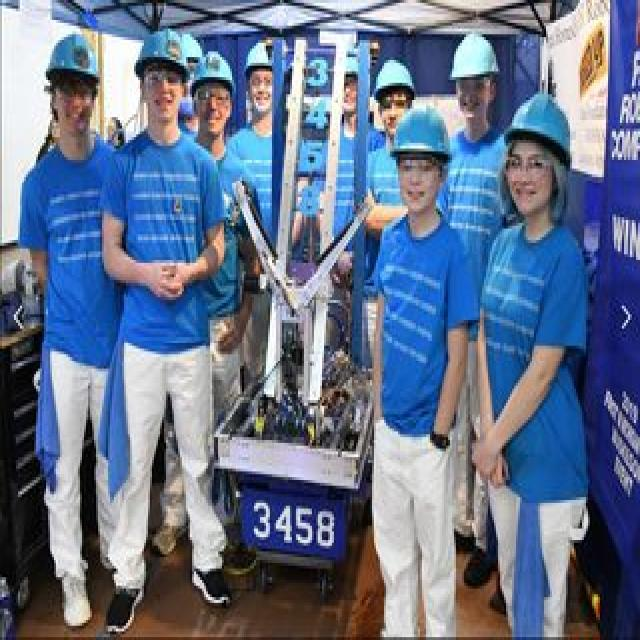robot: (212, 25, 394, 500)
